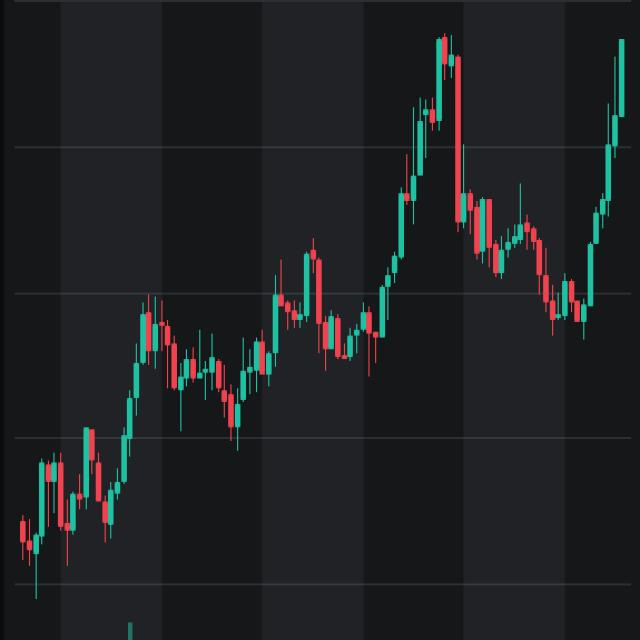Descending-Triangle: (370, 18, 640, 326)
Resistance-breakout: (231, 21, 445, 433), (413, 12, 638, 337)
